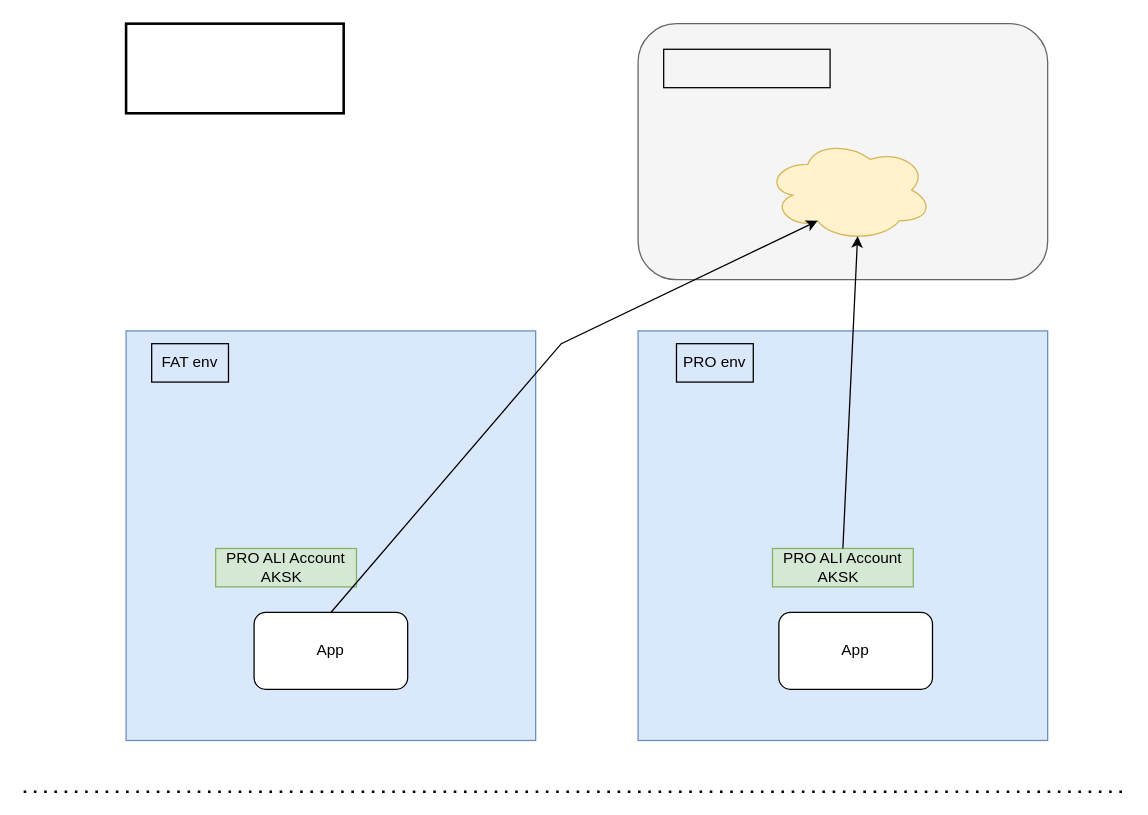
The diagram is 1148 pixels wide and 815 high, and some of its shapes have lost their labels. The shapes that lost their labels are listed below. From the top down, each one's centre as x and y in pixels, then its label:
At [234,68]: "AKSK改造前".
At [746,68]: "PRO ALI Account".
At [848,189]: "OSS Bucket".
